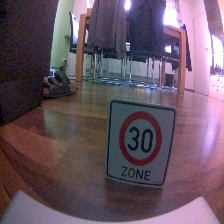dreisiger_zone: (102, 99, 177, 189)
